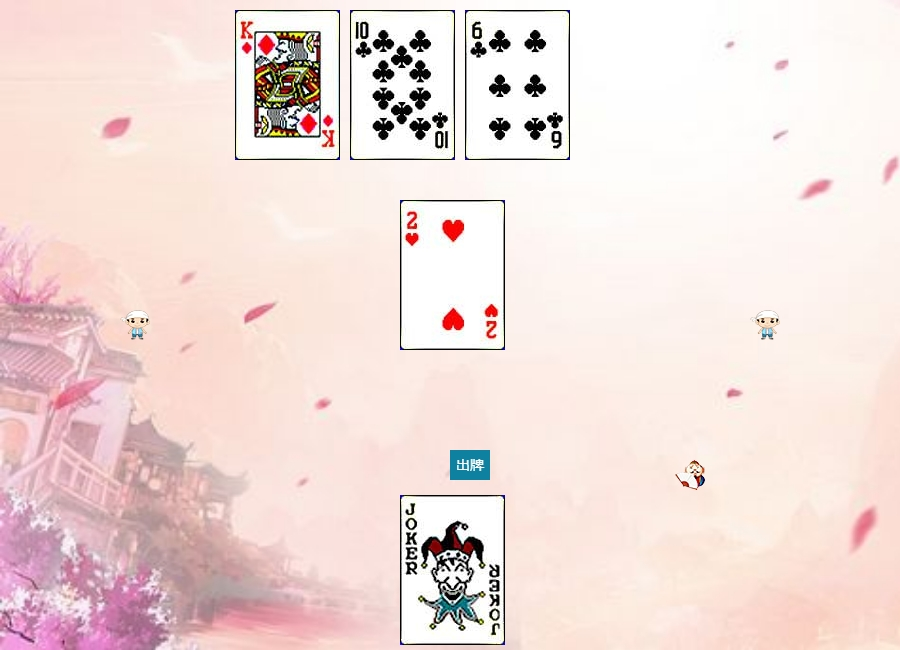10~2: (350, 10, 455, 160)
13~1: (235, 10, 340, 160)
15~3: (400, 200, 505, 350)
17~3: (400, 495, 505, 645)
6~2: (465, 10, 570, 160)
